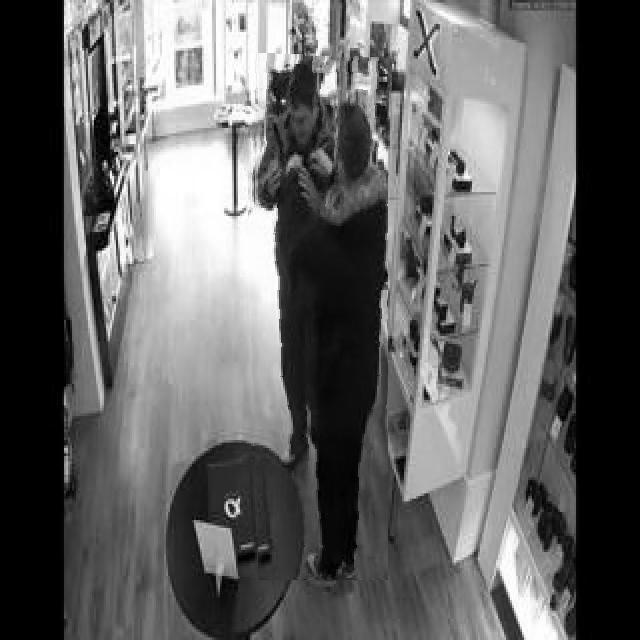Shoplifting: (243, 54, 388, 580)
